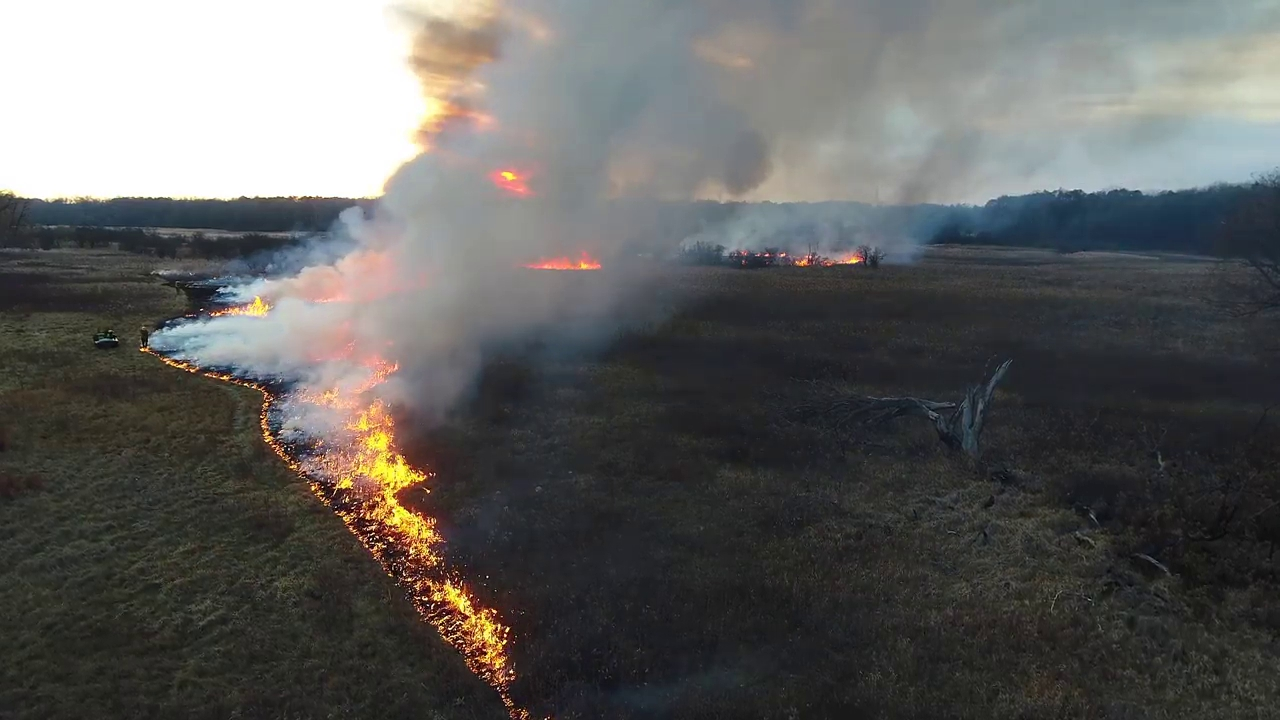forest_fire: (143, 345, 527, 718), (523, 251, 600, 270), (790, 250, 869, 266), (208, 298, 269, 317)
